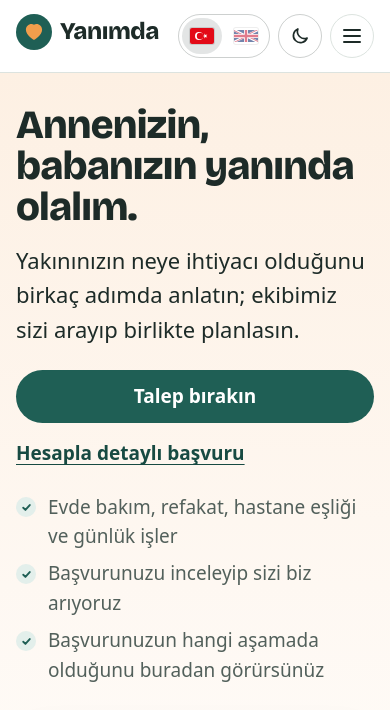
SiteHeader mobil menüsü › menü düğmesi menüyü açıp kapatır ve aria-expanded ile bildirir
This screenshot has width=390, height=710.
Click the button with class "site-header__toggle" at (352, 36), box [330,14,374,58]
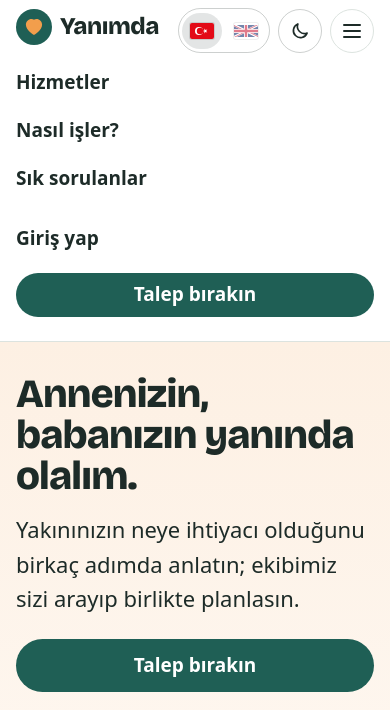
Result: the button with class "site-header__toggle" is expanded
Click the button with class "site-header__toggle" at (352, 30), box [330,8,374,52]
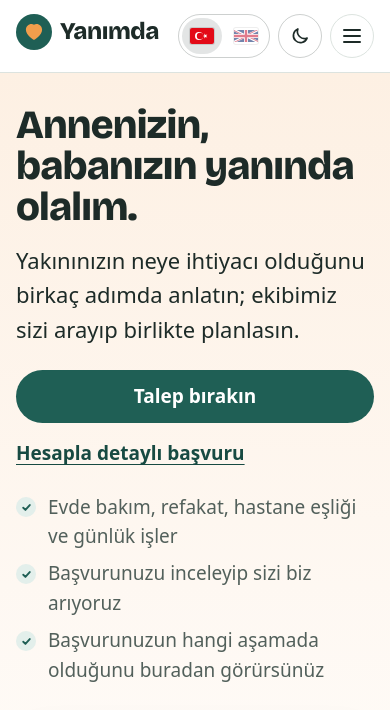
Result: the button with class "site-header__toggle" is collapsed at [330,14,374,58]
